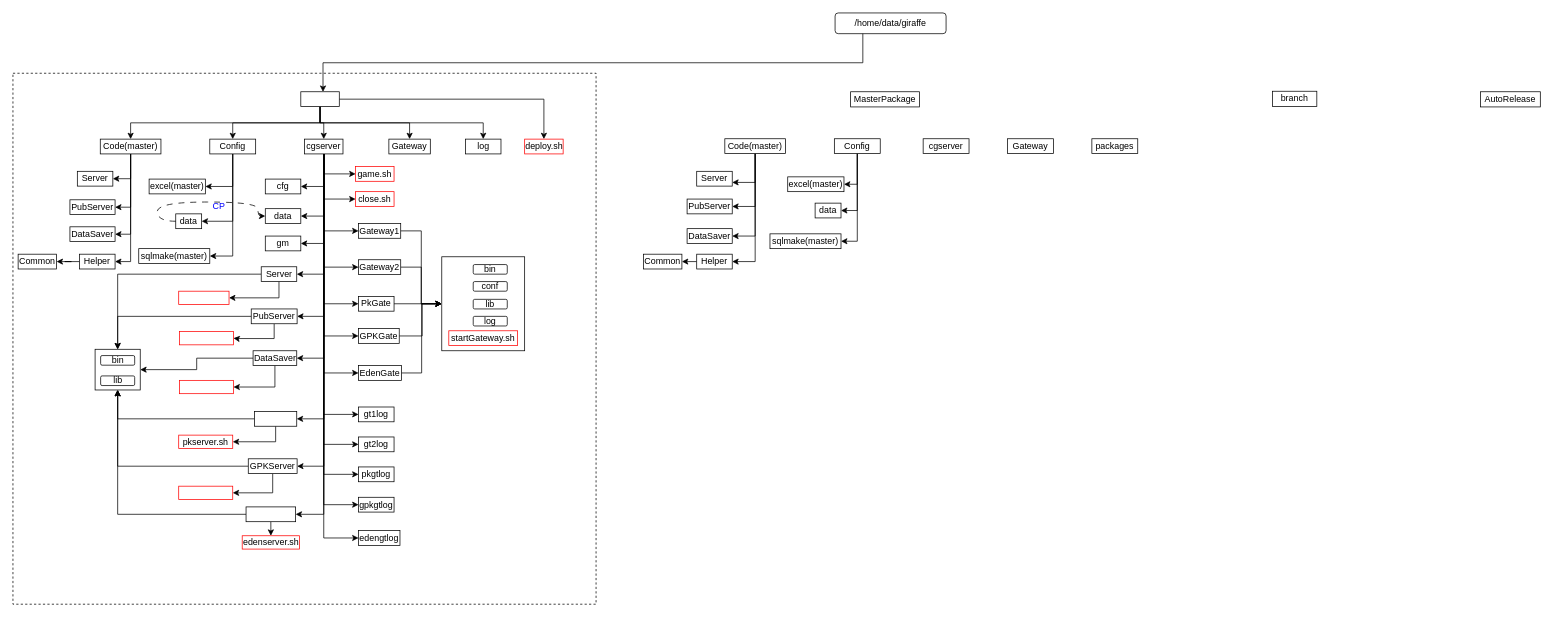
Image size: 1553x617. Some labels were removed from this diagram. The box of each missing label's shape, as (x1, y1, x2, y2) in pixels:
cgserver.sh: (178, 290, 229, 305)
datasaver.sh: (179, 380, 233, 394)
Dev: (300, 91, 339, 107)
EdenServer: (245, 506, 296, 522)
gpkserver.sh: (178, 485, 233, 500)
PkServer: (254, 411, 297, 426)
pubserver.sh: (179, 331, 233, 345)
